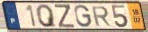1: (26, 4, 37, 28)
5: (111, 5, 129, 29)
G: (73, 4, 93, 28)
Q: (35, 4, 58, 29)
R: (90, 5, 112, 27)
Z: (54, 4, 77, 29)
